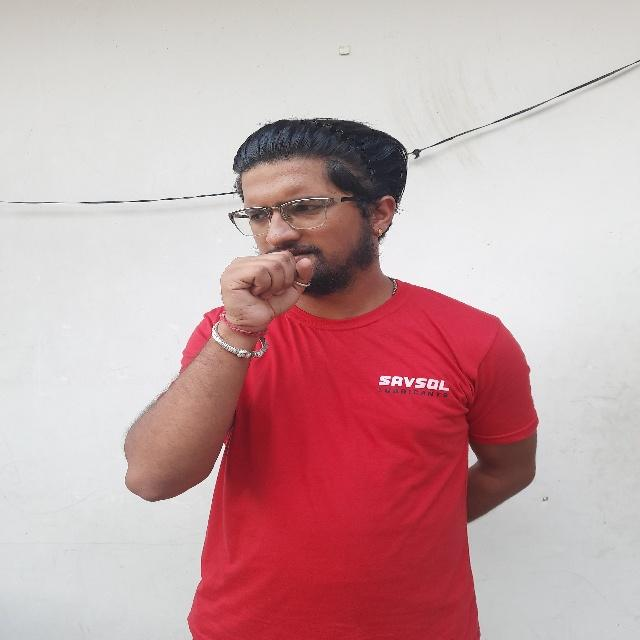Fist Mouth: (198, 107, 398, 358)
